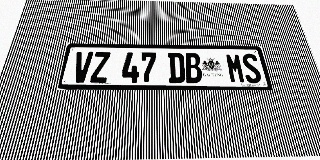4: (121, 52, 140, 83)
7: (139, 52, 156, 83)
B: (184, 53, 203, 83)
D: (168, 53, 186, 83)
M: (225, 53, 246, 83)
S: (241, 54, 263, 83)
V: (71, 51, 93, 83)
Z: (90, 52, 110, 83)
